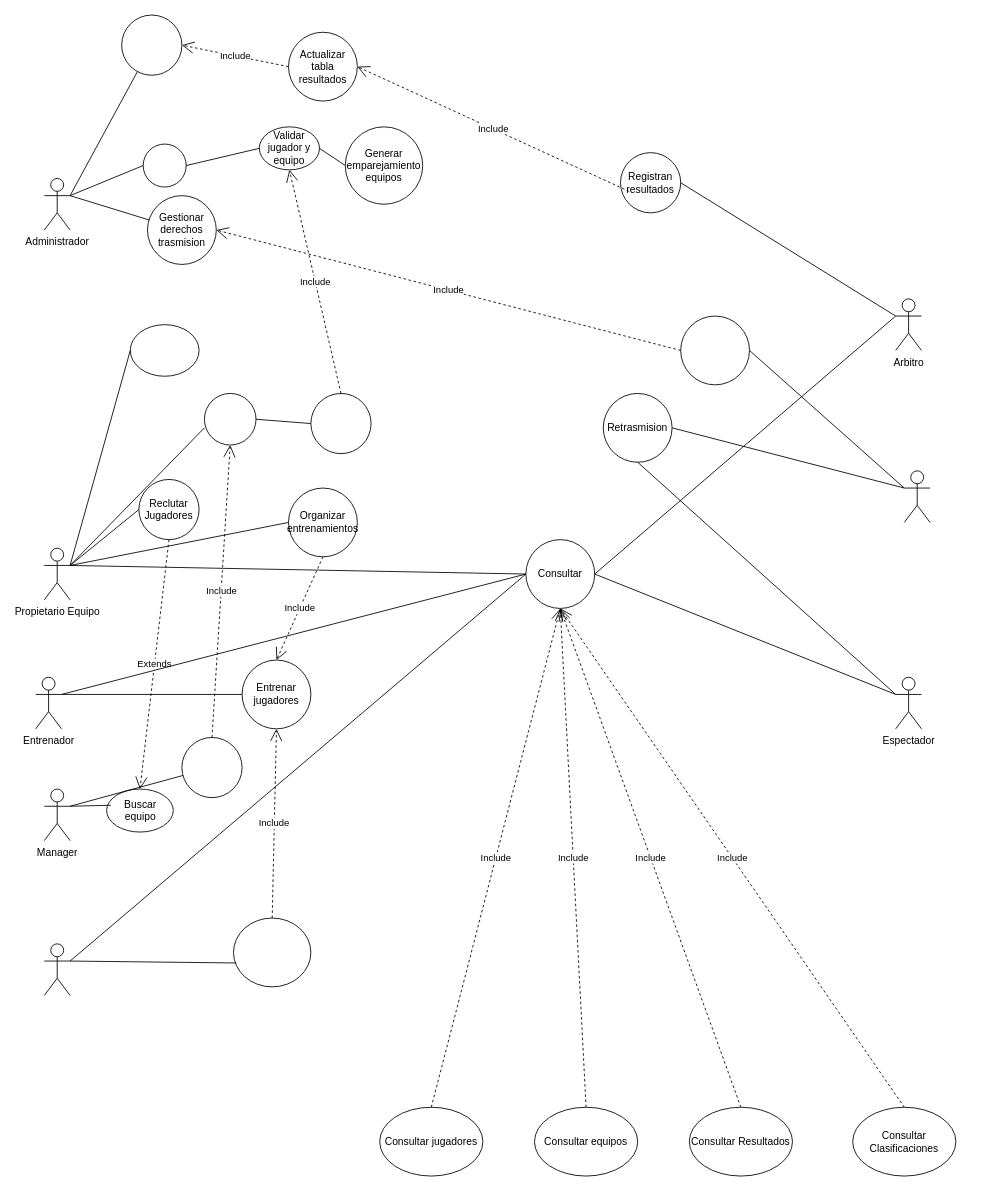
This 986x1191 diagram has some shape labels left out. Here are the shapes that lost their labels. From the top down, the centre of each, then its label:
(x=151, y=44): Actualizar clasificacion
(x=164, y=165): Crear torneo
(x=164, y=350): Registrar Equipo
(x=714, y=350): Solicitar pernmiso de retrasmision
(x=230, y=419): Comprobar requisitos jugador
(x=340, y=423): Inscribir a tornneo
(x=916, y=496): Mediop de retrasmision
(x=211, y=767): Actualizar documentacion jugador
(x=56, y=969): Jugador
(x=272, y=952): Entenar
